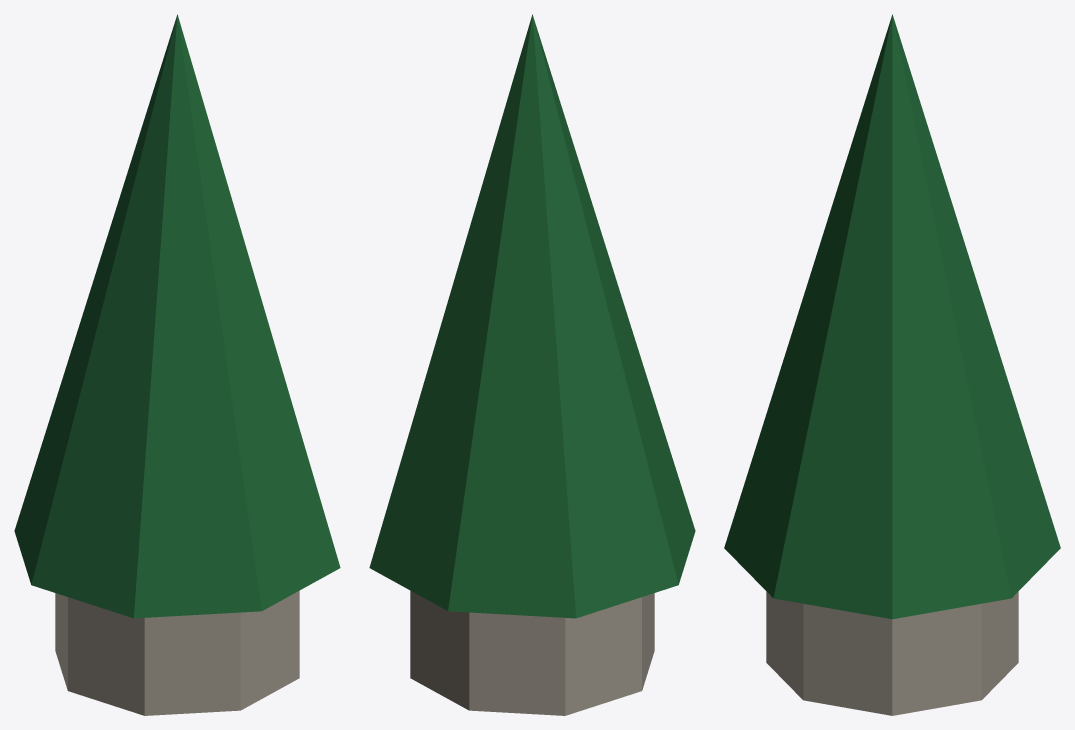
The model's file is garden2_topiary_cone.glb.
3 views of the same model, side by side, from view 1: azimuth 30°, elevation 25°; view 2: azimuth 150°, elevation 25°; view 3: azimuth 270°, elevation 25° (orthographic).
Parts seen in each view (by area): view 1: topiary_cone; view 2: topiary_cone; view 3: topiary_cone.
Part boxes in pixels (<box>): topiary_cone: <box>14,14,340,715</box>; topiary_cone: <box>369,14,695,715</box>; topiary_cone: <box>724,14,1060,715</box>.
Size of the model in its own units: 0.4 by 0.85 by 0.4.
